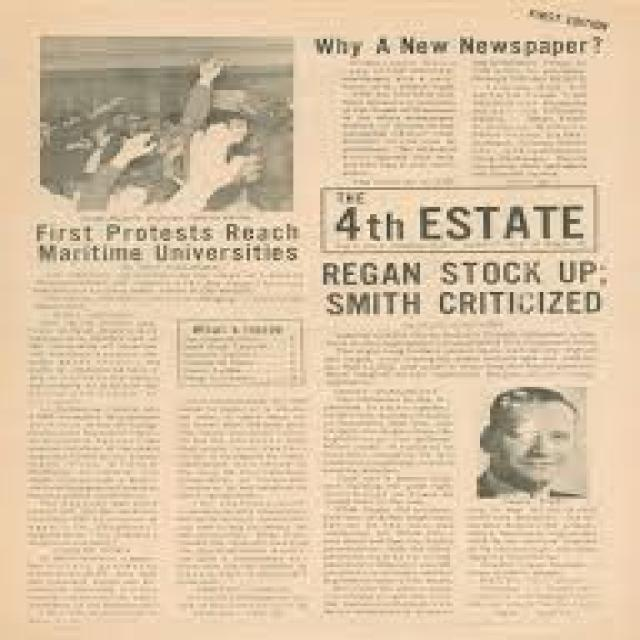paper: (13, 6, 628, 640)
